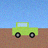vehicle: (12, 22, 38, 38)
